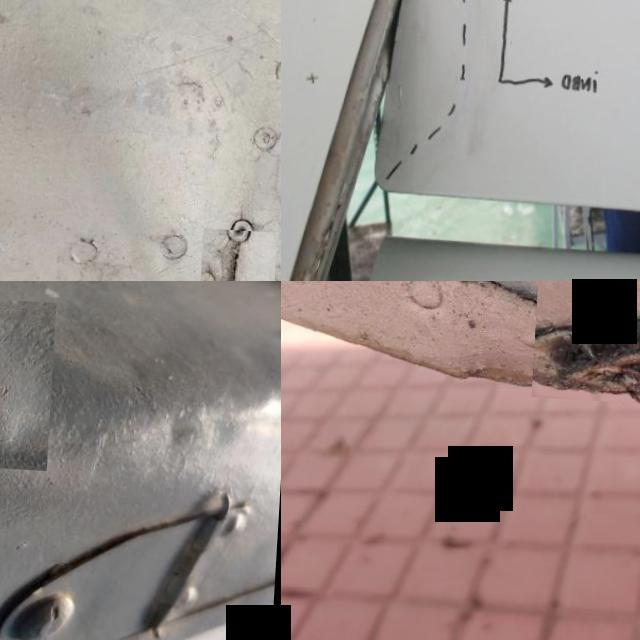Crack: (535, 281, 640, 401), (203, 225, 281, 281), (390, 82, 407, 108)
Dent: (0, 292, 59, 466)
